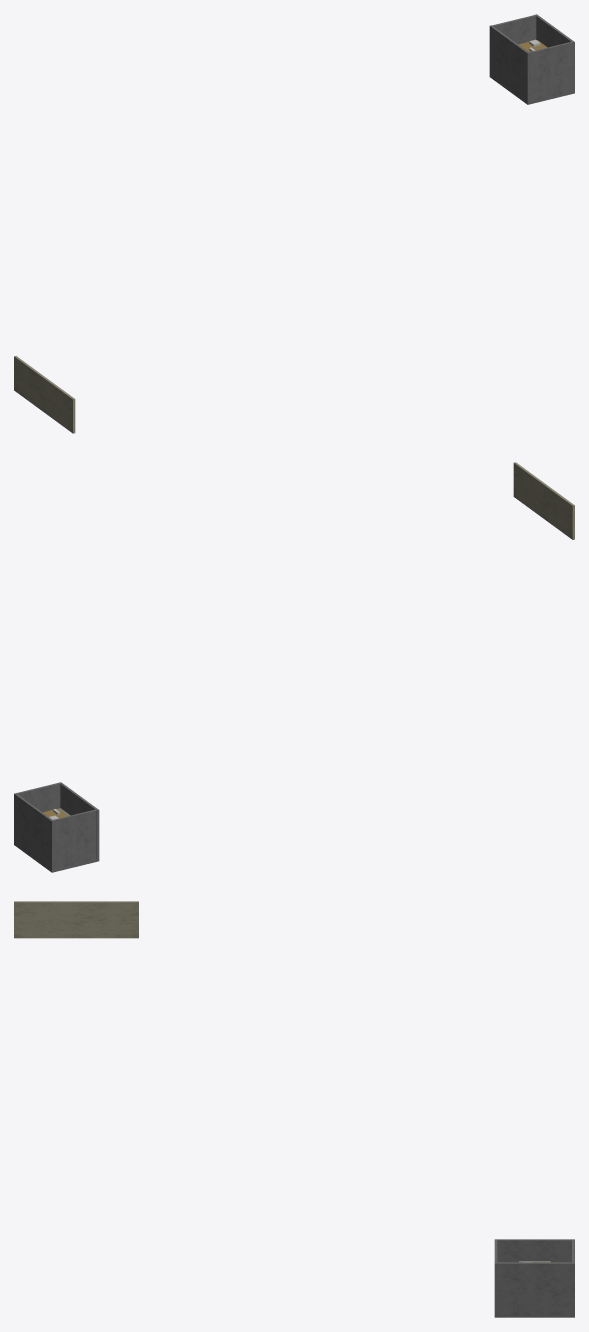
Rendered from Frame 18. Top-down shaft inspection view with car roof, hoist ropes and counterweight frame..fbx.
The picture shows the model from 3 angles, top to bottom: view 1: azimuth 30°, elevation 25°; view 2: azimuth 210°, elevation 25°; view 3: azimuth 270°, elevation 25°; orthographic projection. The views are drawn at different scales.
Visible parts, largest first — view 1: Cube.294, Cube.176, Cube.174, Cube.175, Cube.172; view 2: Cube.294, Cube.175, Cube.172, Cube.174, Cube.176; view 3: Cube.294, Cube.172, Cube.174.
Boxes of the visible parts, x1,y1,x2,y2 form: Cube.294: (14, 356, 75, 433); Cube.176: (529, 41, 572, 101); Cube.174: (489, 25, 529, 102); Cube.175: (492, 15, 536, 44); Cube.172: (535, 14, 574, 91); Cube.294: (513, 462, 574, 539); Cube.175: (53, 809, 96, 869); Cube.172: (14, 793, 54, 870); Cube.174: (59, 782, 99, 859); Cube.176: (16, 782, 60, 812); Cube.294: (14, 901, 138, 938); Cube.172: (494, 1262, 574, 1315); Cube.174: (494, 1239, 574, 1262).
Bounding box in the file's own units: 66910 × 4498 × 42183.
